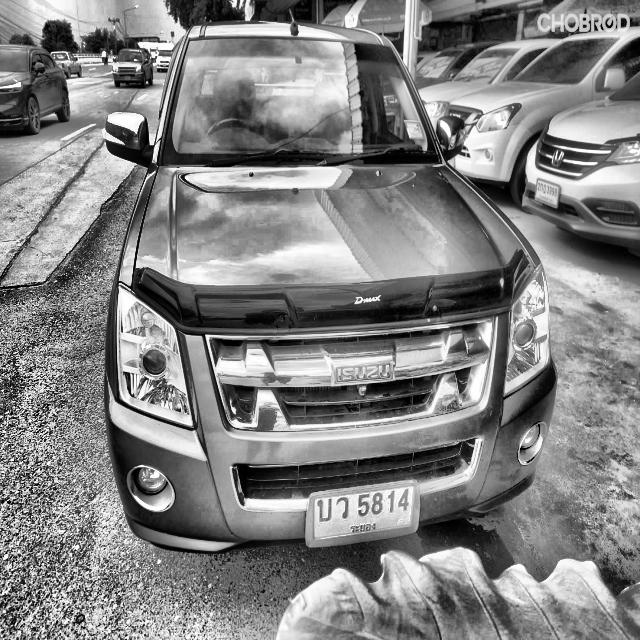license-plate: (305, 478, 421, 550)
